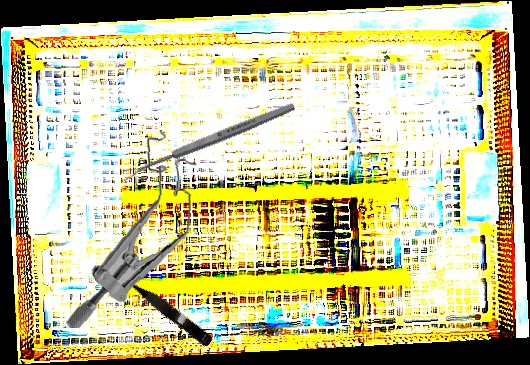Micro Scissor: (109, 263, 216, 348)
Speculum: (64, 123, 202, 337)
Surgical Spoon: (121, 100, 297, 181)
